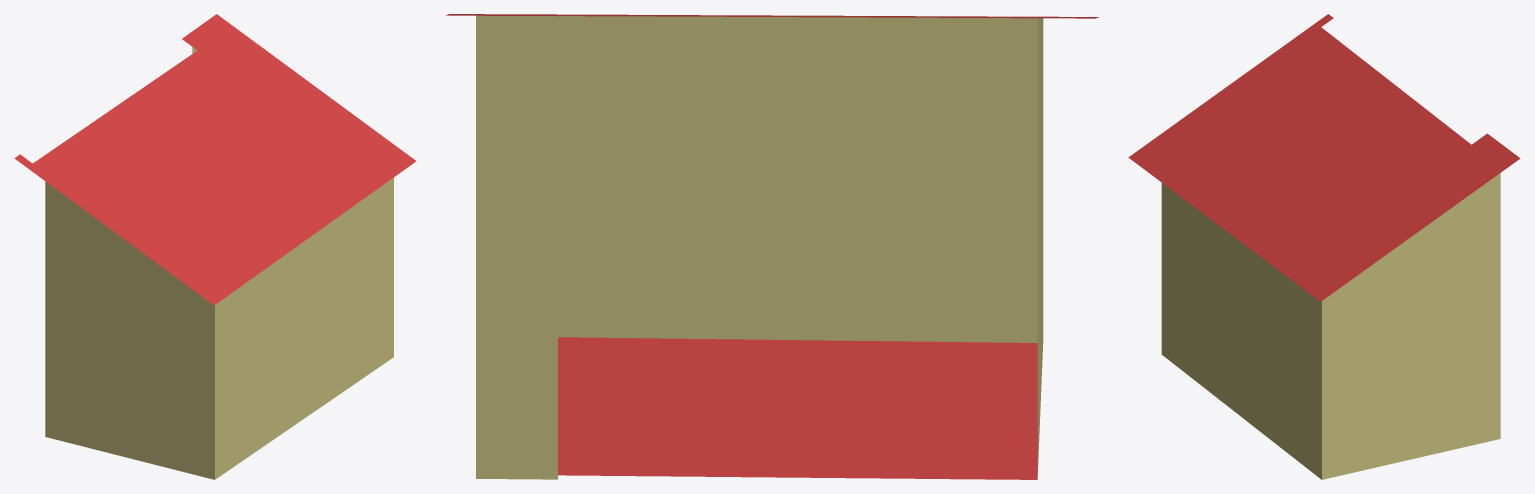
The picture shows the model from 3 angles, left to right: view 1: azimuth 30°, elevation 25°; view 2: azimuth 150°, elevation 25°; view 3: azimuth 270°, elevation 25°; orthographic projection. The views are drawn at different scales.
Bounding box in the file's own units: 16.14 × 13.94 × 11.16.
